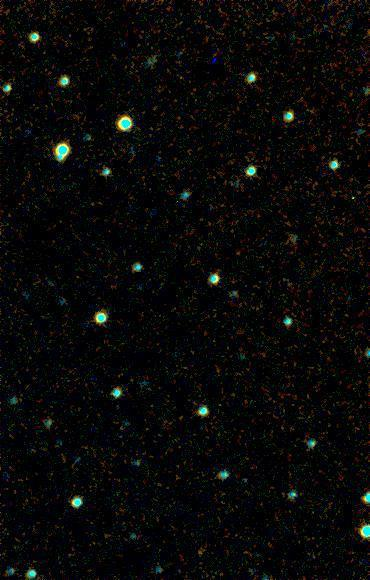star: (185, 535, 215, 565)
